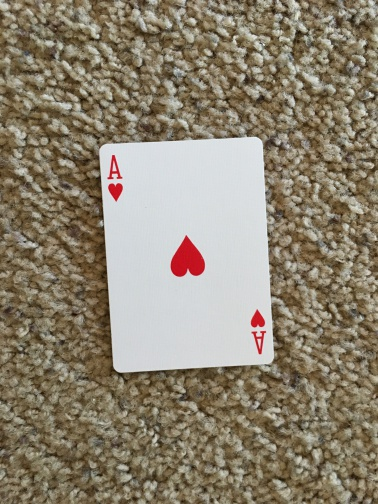ace: (97, 136, 275, 368)
